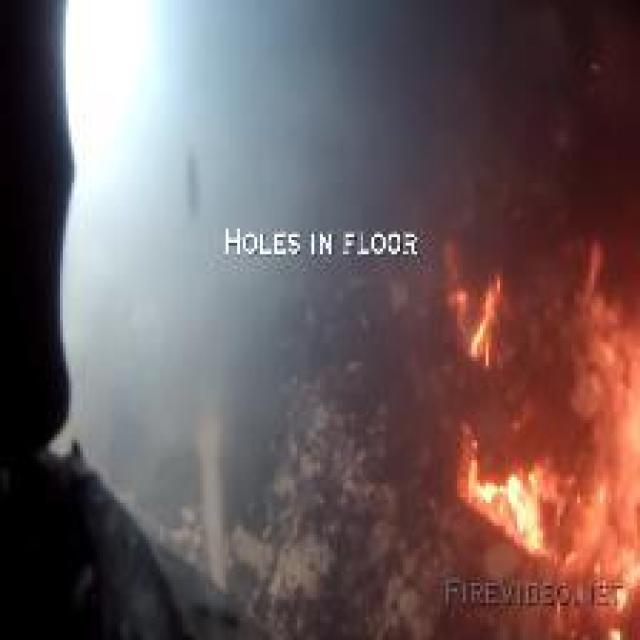fire: (438, 245, 632, 577)
